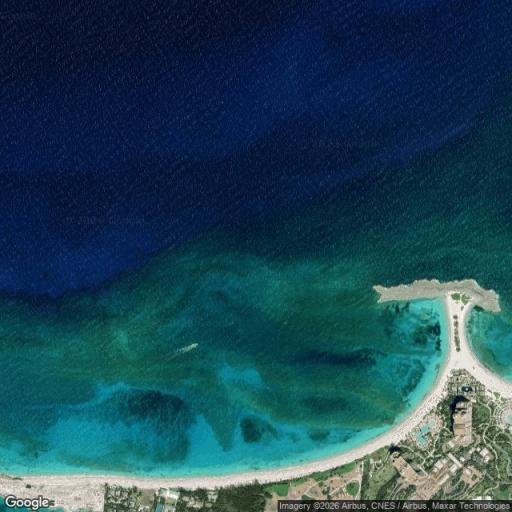ship: (165, 332, 205, 363)
